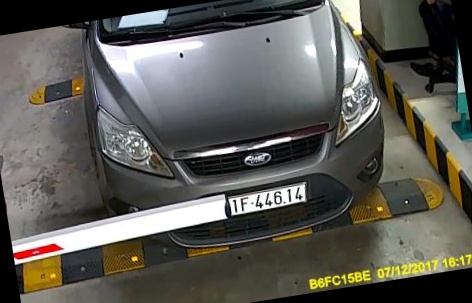plate: (218, 178, 309, 214)
